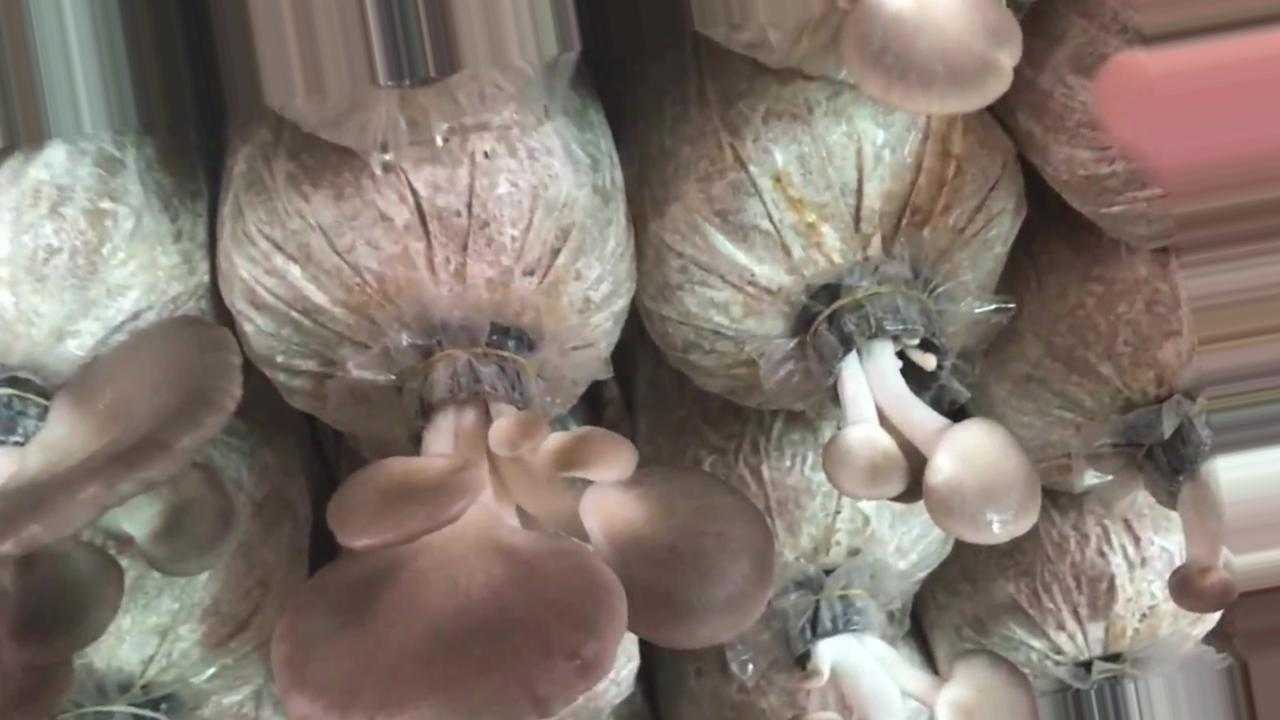nam: (276, 348, 774, 720), (1, 318, 241, 718), (825, 271, 1038, 543), (1148, 395, 1280, 609), (841, 1, 1018, 116)
